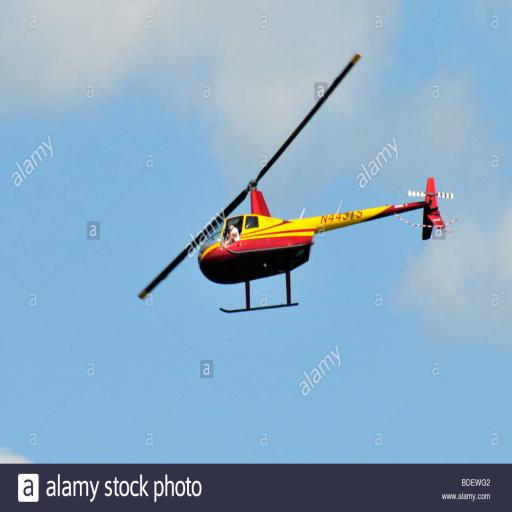helicopter: (143, 55, 455, 314)
